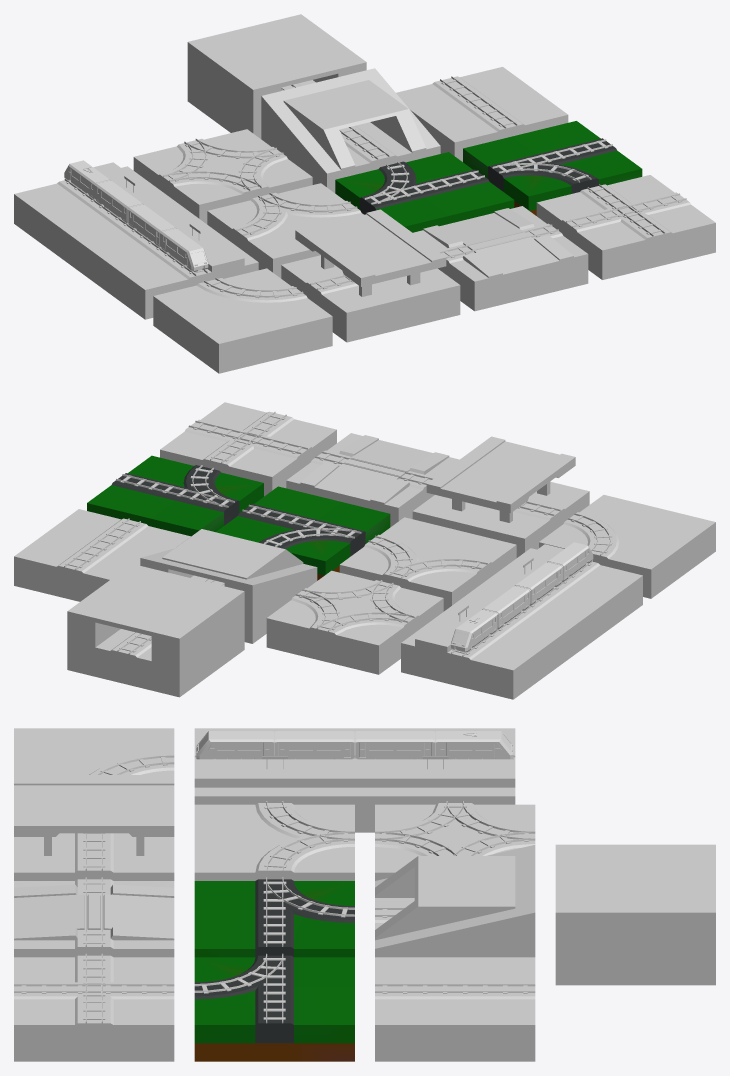
File: Rail.fbx
3 renders of one model, top to bottom at view 1: azimuth 30°, elevation 25°; view 2: azimuth 150°, elevation 25°; view 3: azimuth 270°, elevation 25°, orthographic. The views are drawn at different scales.
Parts seen in each view (by area): view 1: landscape-track-1-road-bridge, landscape-track-1-tunnel-entry, landscape-track-1-curve, landscape-track-1-tunnel-segment, landscape-track-1-rail-crossing, landscape-track-1-road-crossing, landscape-track-1-diamond, landscape-track-1-y-right, landscape-track-1-platform.001, landscape-track-1-straight, landscape-track-1-y-right.001, landscape-track-1-platform (+5 smaller); view 2: landscape-track-1-tunnel-segment, landscape-track-1-road-bridge, landscape-track-1-diamond, landscape-track-1-platform, landscape-track-1-curve, landscape-track-1-rail-crossing, landscape-track-1-tjunction, landscape-track-1-straight, landscape-track-1-y-right, landscape-track-1-road-crossing, landscape-track-1-tunnel-entry, landscape-track-1-y-right.001 (+5 smaller); view 3: landscape-track-1-tunnel-segment, landscape-track-1-road-bridge, landscape-track-1-y-right, landscape-track-1-rail-crossing, landscape-track-1-straight, landscape-track-1-tunnel-entry, landscape-track-1-road-crossing, landscape-track-1-y-right.001, landscape-track-1-tjunction, landscape-track-1-diamond, landscape-track-1-platform, landscape-track-1-platform.001 (+5 smaller).
Boxes of the visible parts, left/top/right/bottom form: landscape-track-1-road-bridge: left=281, top=209, right=460, bottom=342; landscape-track-1-tunnel-entry: left=261, top=68, right=440, bottom=193; landscape-track-1-curve: left=153, top=268, right=332, bottom=373; landscape-track-1-tunnel-segment: left=187, top=14, right=366, bottom=138; landscape-track-1-rail-crossing: left=536, top=175, right=715, bottom=279; landscape-track-1-road-crossing: left=413, top=206, right=588, bottom=311; landscape-track-1-diamond: left=133, top=129, right=312, bottom=224; landscape-track-1-y-right: left=463, top=121, right=642, bottom=215; landscape-track-1-platform.001: left=79, top=210, right=258, bottom=319; landscape-track-1-straight: left=396, top=67, right=568, bottom=161; landscape-track-1-y-right.001: left=335, top=152, right=514, bottom=232; landscape-track-1-platform: left=14, top=162, right=192, bottom=271; landscape-track-1-tunnel-segment: left=67, top=564, right=244, bottom=697; landscape-track-1-road-bridge: left=412, top=436, right=589, bottom=557; landscape-track-1-diamond: left=266, top=570, right=443, bottom=674; landscape-track-1-platform: left=401, top=591, right=578, bottom=699; landscape-track-1-curve: left=539, top=495, right=715, bottom=598; landscape-track-1-rail-crossing: left=160, top=402, right=336, bottom=496; landscape-track-1-tjunction: left=339, top=517, right=516, bottom=611; landscape-track-1-straight: left=14, top=509, right=190, bottom=601; landscape-track-1-y-right: left=87, top=455, right=263, bottom=536; landscape-track-1-road-crossing: left=286, top=433, right=459, bottom=527; landscape-track-1-tunnel-entry: left=140, top=529, right=317, bottom=643; landscape-track-1-y-right.001: left=216, top=486, right=390, bottom=580; landscape-track-1-tunnel-segment: left=555, top=844, right=715, bottom=985; landscape-track-1-road-bridge: left=14, top=775, right=174, bottom=880; landscape-track-1-y-right: left=194, top=953, right=354, bottom=1061; landscape-track-1-rail-crossing: left=14, top=953, right=174, bottom=1061; landscape-track-1-straight: left=375, top=957, right=535, bottom=1061; landscape-track-1-tunnel-entry: left=375, top=845, right=535, bottom=957; landscape-track-1-road-crossing: left=14, top=877, right=174, bottom=957; landscape-track-1-y-right.001: left=194, top=877, right=354, bottom=957; landscape-track-1-tjunction: left=194, top=801, right=354, bottom=880; landscape-track-1-diamond: left=375, top=801, right=535, bottom=880; landscape-track-1-platform: left=355, top=728, right=515, bottom=832; landscape-track-1-platform.001: left=194, top=728, right=354, bottom=804.
Bounding box in the file's own units: 3500 × 410 × 3500.
